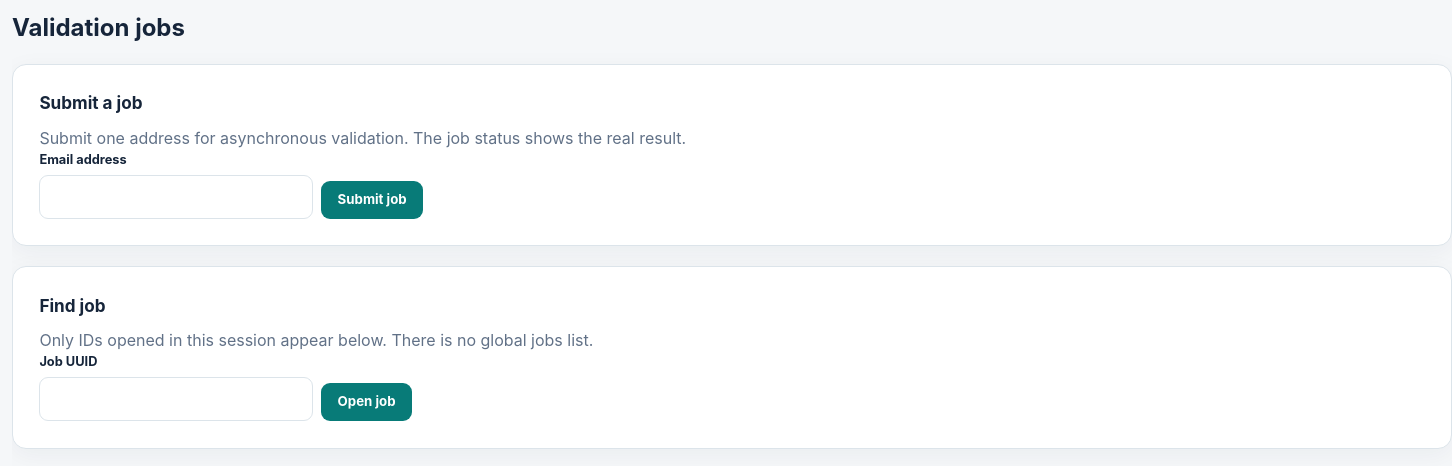
jobs › submits an address once and opens its actual job ID
In the field labelled "Email address": (176, 197) [39,175,313,219], type "sample@example.test"
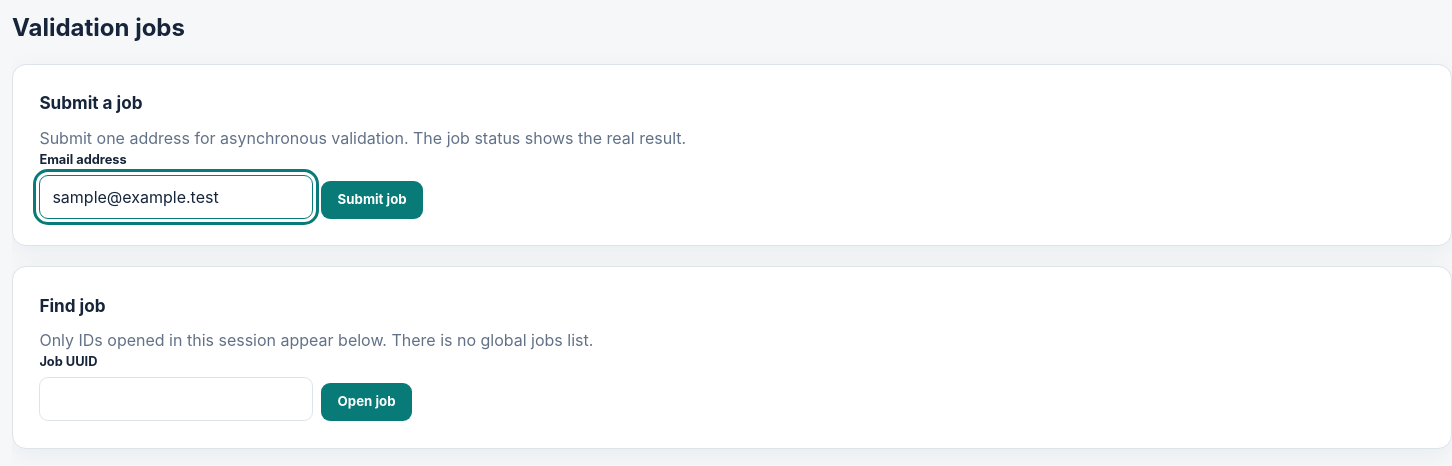
Click the button "Submit job": click(372, 200) [321,180,423,219]
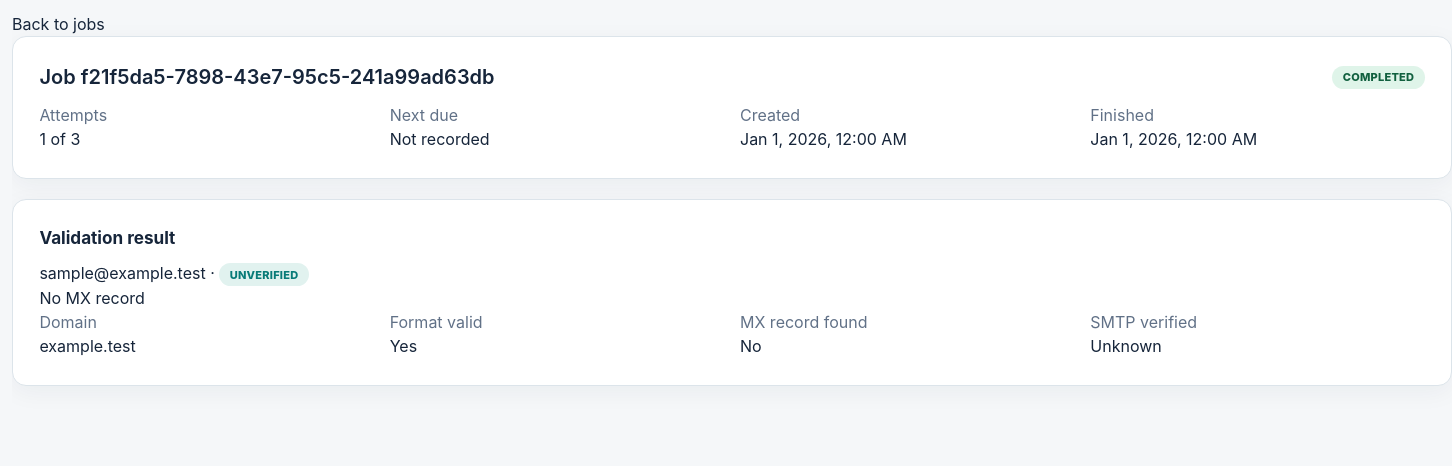
Result: the text "No MX record" is shown at [39,288,145,308]
